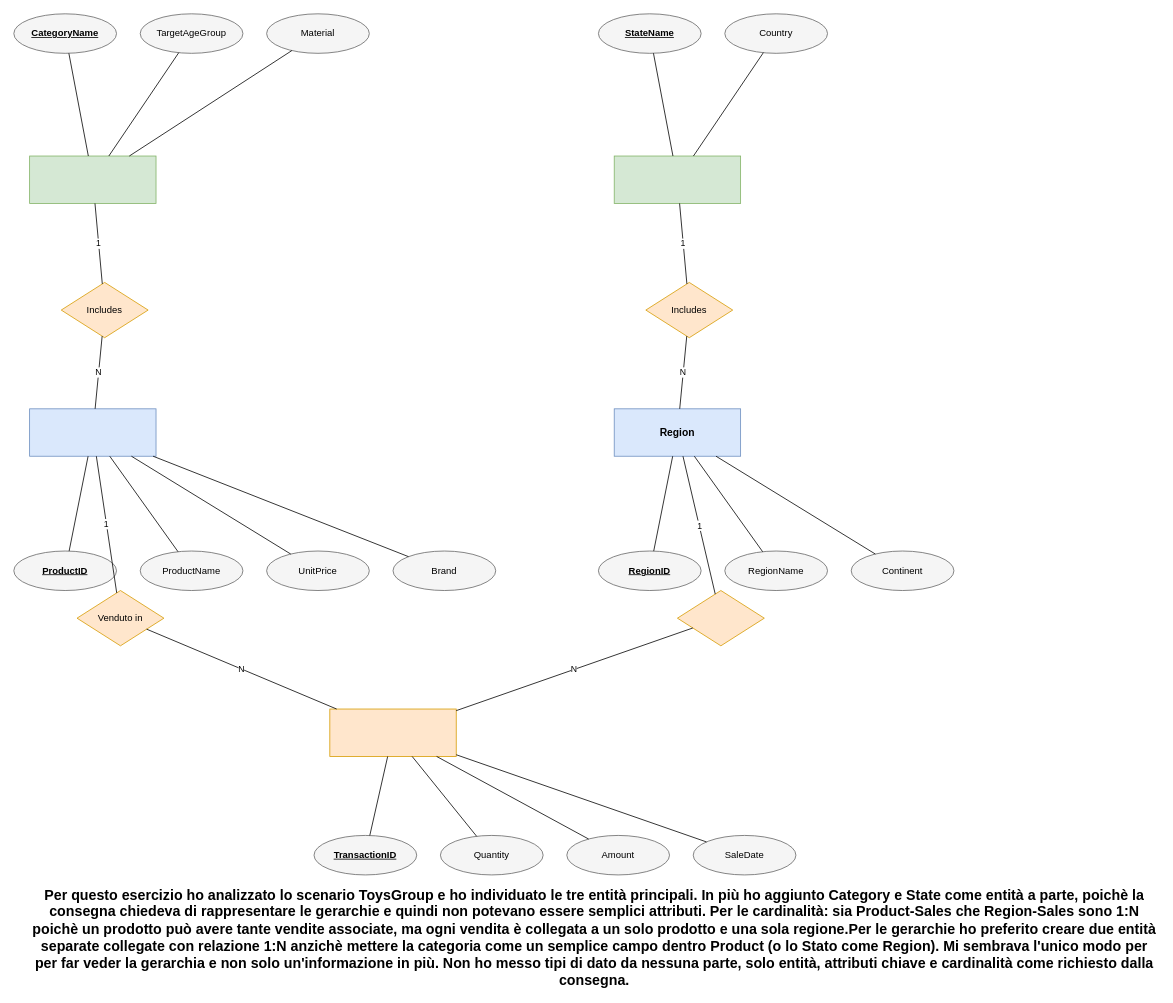
Some shapes in this 1173 by 1003 pixel diagram are drawn without their labels. Here are the shapes that lost their labels. From the top down, the centre of each, then its label:
(x=92, y=179): Category
(x=677, y=179): State
(x=92, y=432): Product
(x=720, y=618): Registrato in
(x=392, y=732): Sales
